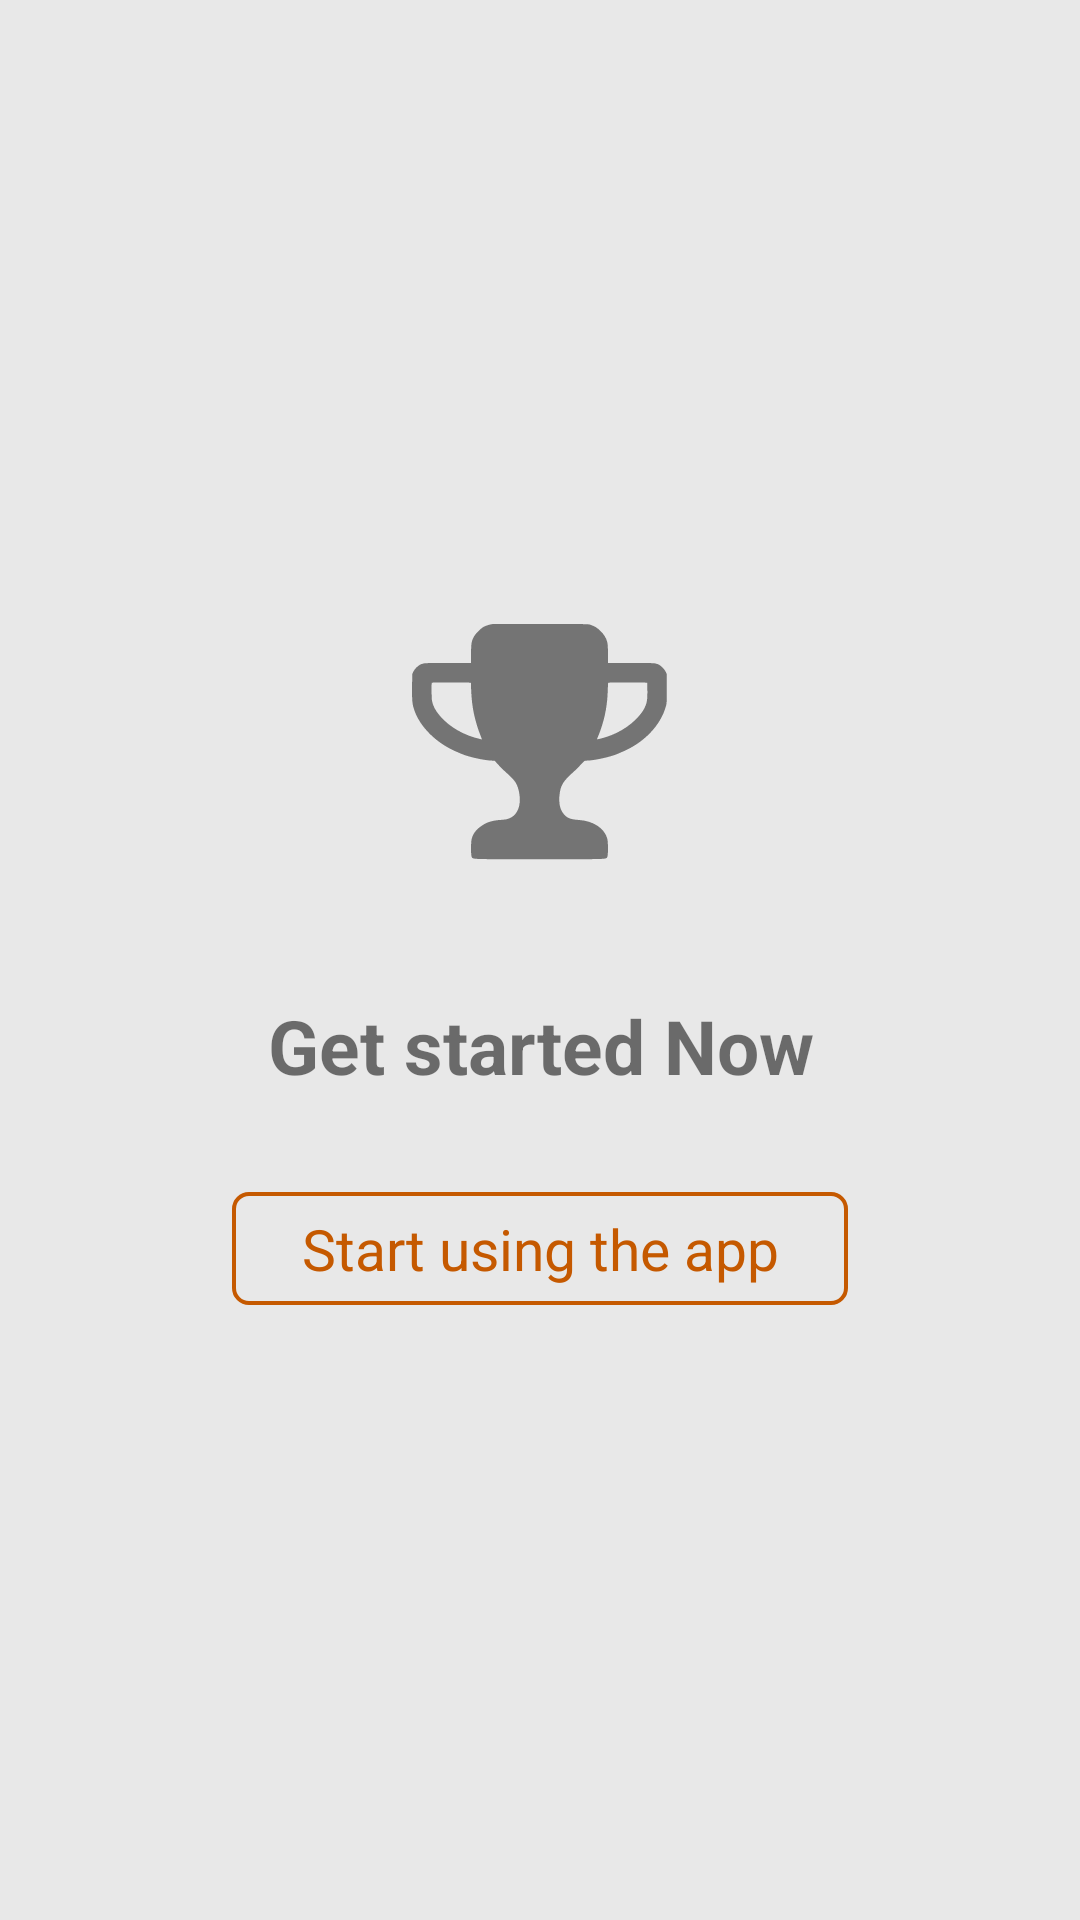

Locate icon controls on the screen. Image size 1080 × 1920, boxes as BBox(x1, y1, x2, y2).
cup: BBox(412, 624, 667, 860)
